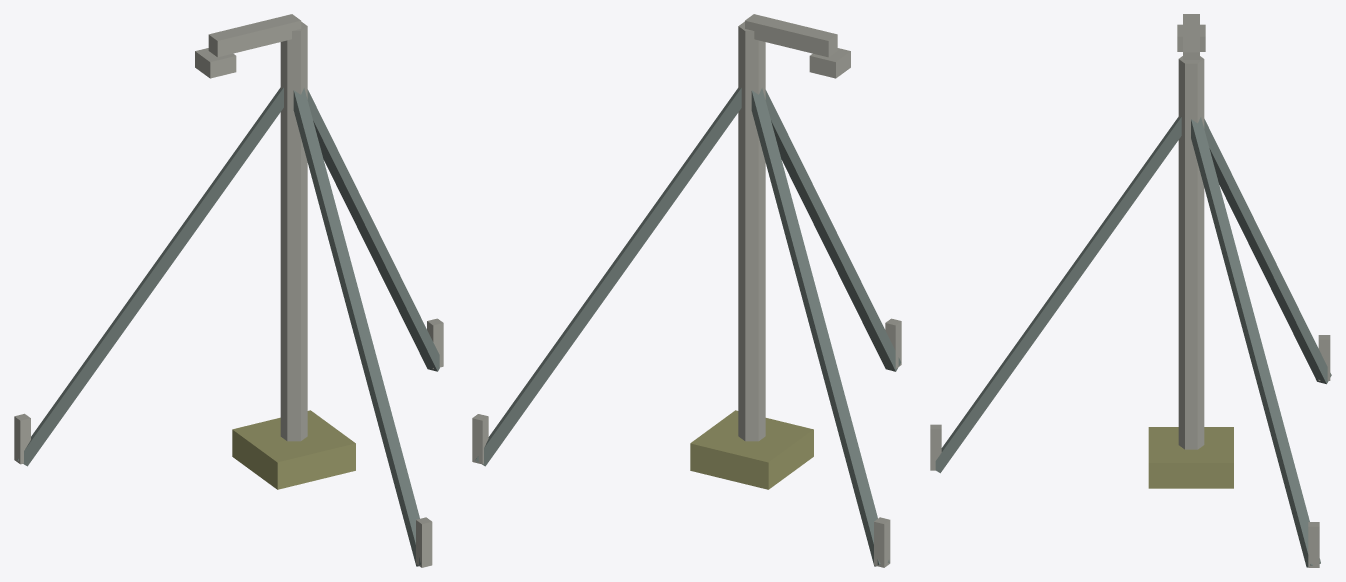
Rendered from SM_PosteFoco_v4_Vientos_LOD1.fbx.
3 views of the same model, side by side, from view 1: azimuth 30°, elevation 25°; view 2: azimuth 150°, elevation 25°; view 3: azimuth 270°, elevation 25° (orthographic). The views are drawn at different scales.
Visible parts, largest first — view 1: SM_poste_foco_v4_LOD1; view 2: SM_poste_foco_v4_LOD1; view 3: SM_poste_foco_v4_LOD1.
Part boxes in pixels (x1,y1,x2,y2): SM_poste_foco_v4_LOD1: (14, 14, 443, 567); SM_poste_foco_v4_LOD1: (472, 14, 901, 567); SM_poste_foco_v4_LOD1: (930, 14, 1331, 567).
Size of the model in its own units: 1.61 by 1.64 by 1.41.
